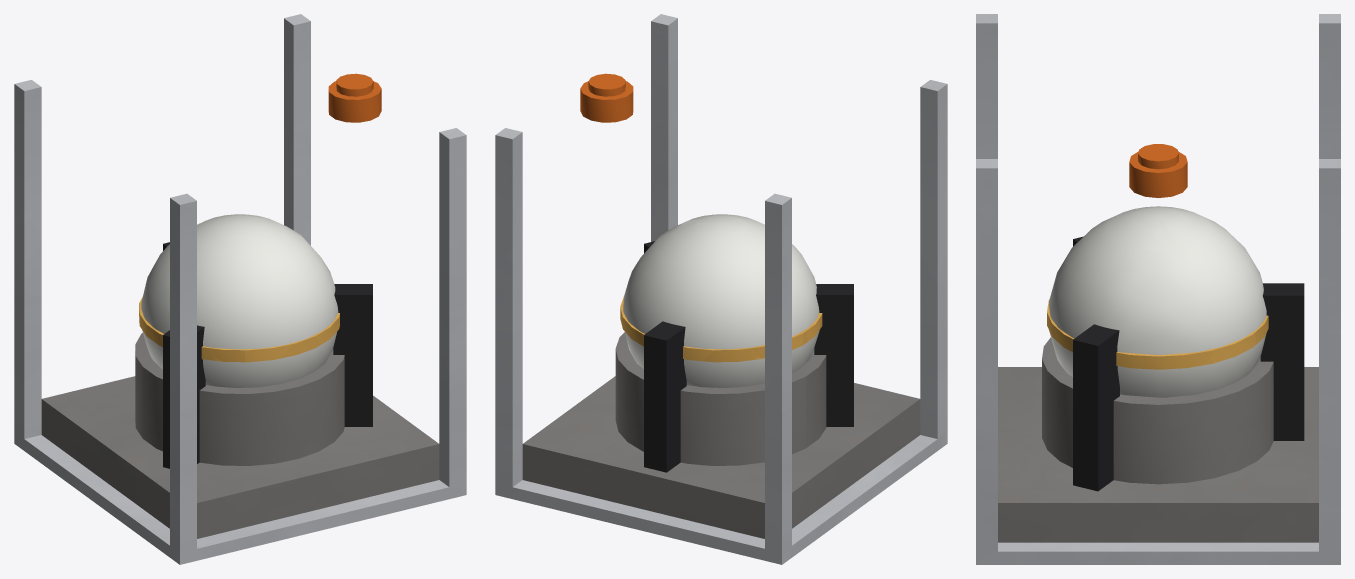
File: sci06_sample_cache_orbiting_container.glb
3 views of the same model, side by side, from view 1: azimuth 30°, elevation 25°; view 2: azimuth 150°, elevation 25°; view 3: azimuth 270°, elevation 25° (orthographic). The views are drawn at different scales.
Parts seen in each view (by area): view 1: slot_frame, cradle, container, clamps, container_band, port_1; view 2: slot_frame, cradle, container, clamps, port_1, container_band; view 3: cradle, slot_frame, container, clamps, container_band, port_1.
Boxes of the visible parts, box(x1,y1,x2,y2) form: slot_frame: box(14, 14, 466, 564); cradle: box(41, 333, 439, 538); container: box(141, 214, 338, 387); clamps: box(163, 242, 372, 468); container_band: box(139, 297, 339, 362); port_1: box(328, 73, 381, 122); slot_frame: box(495, 14, 947, 564); cradle: box(522, 332, 920, 538); container: box(623, 214, 819, 387); clamps: box(644, 241, 853, 472); port_1: box(580, 73, 633, 122); container_band: box(620, 296, 822, 362); cradle: box(998, 337, 1318, 542); slot_frame: box(976, 14, 1340, 564); container: box(1049, 206, 1266, 397); clamps: box(1073, 236, 1304, 491); container_band: box(1047, 299, 1268, 369); port_1: box(1129, 144, 1187, 197).
Size of the model in its own units: 0.5 by 0.6 by 0.5.
6 materials, 3 textured.
